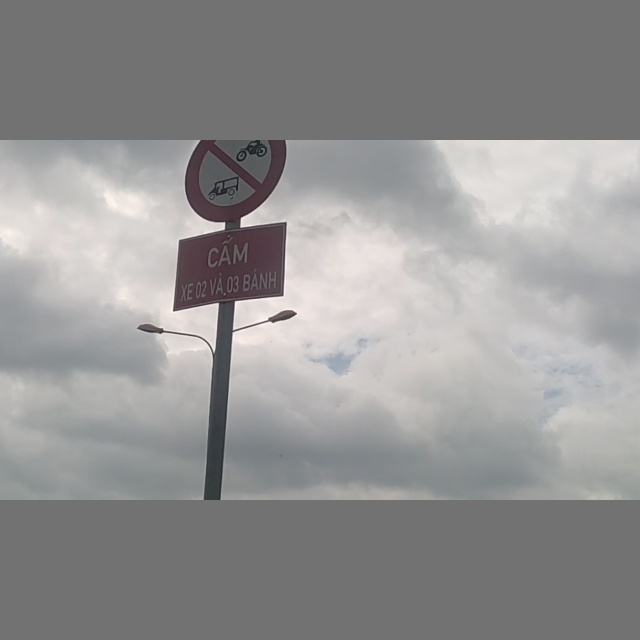P.111: (186, 142, 288, 224)
